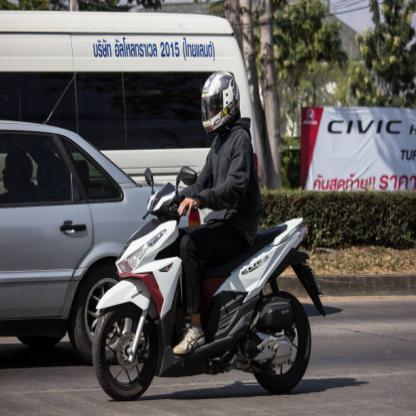Motorcycle: (86, 176, 319, 397)
